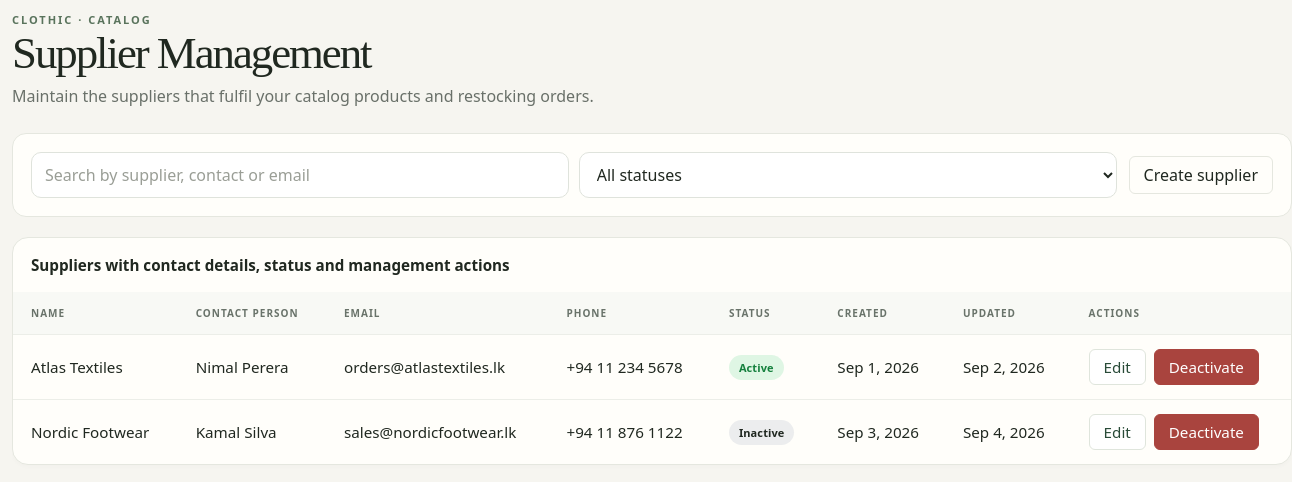
Scenario: SuppliersPage › filters suppliers by search text on the client
This screenshot has width=1292, height=482.
Expected: the text "Atlas Textiles" is shown, x1=13 y1=335 x2=178 y2=400
Type "nordic" into the field named "Search suppliers" at (300, 175), box x1=31 y1=152 x2=569 y2=198
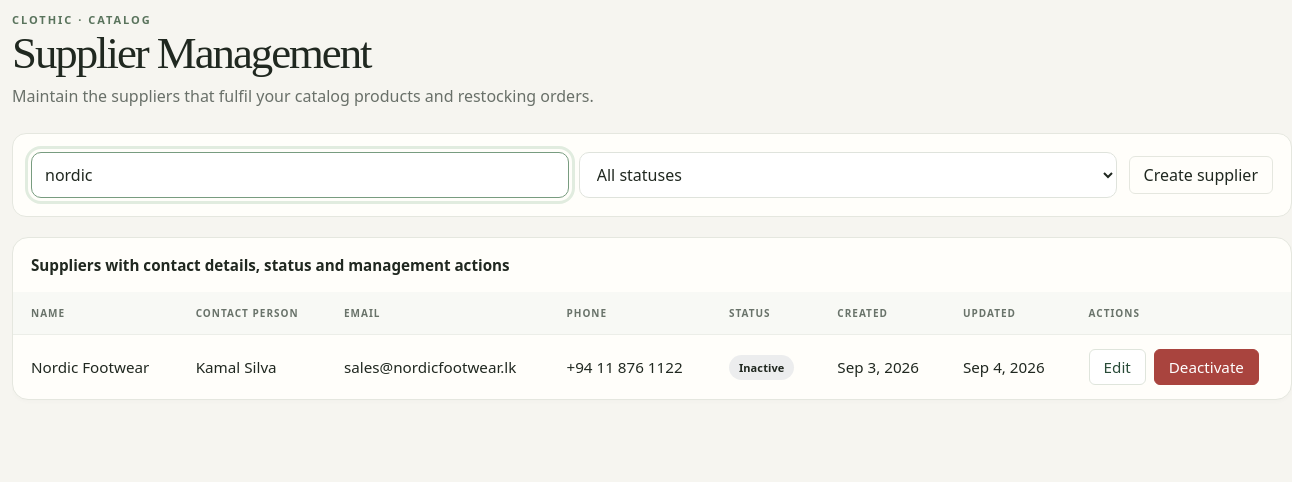
Expected: the text "Nordic Footwear" is shown, x1=13 y1=335 x2=178 y2=399
Now the text "Atlas Textiles" is gone
